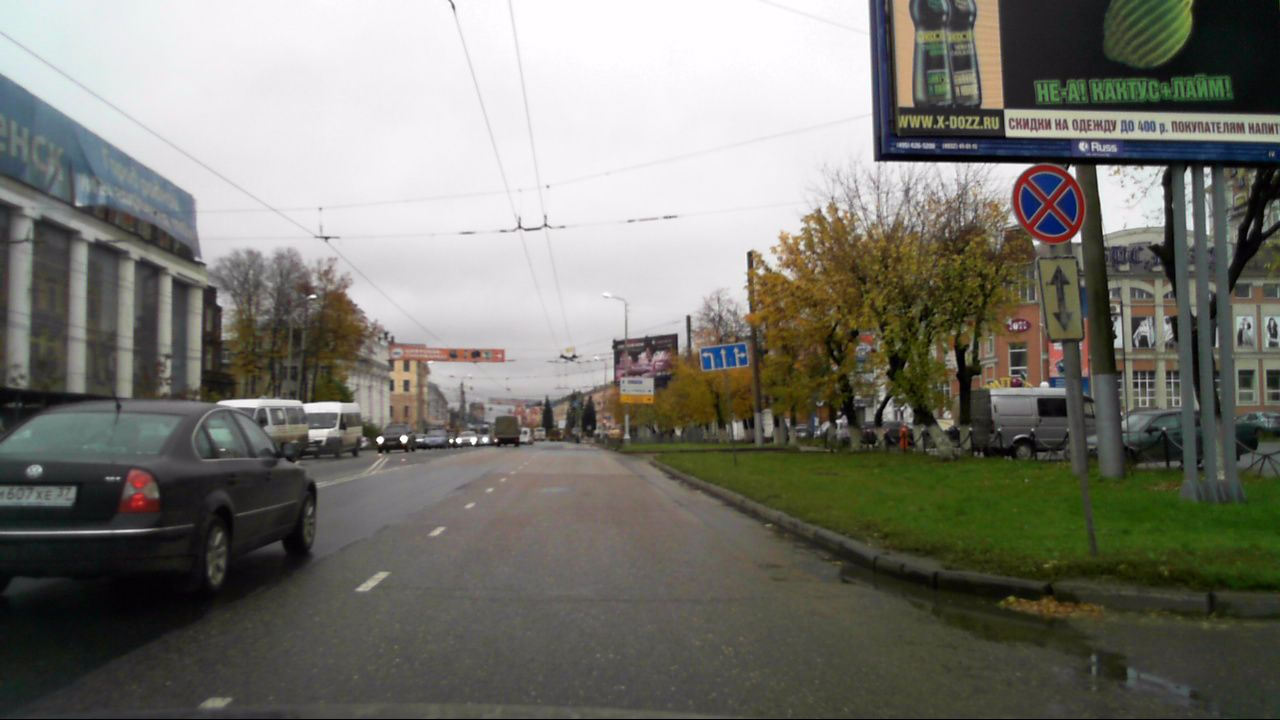No Parking: (1012, 163, 1086, 245)
